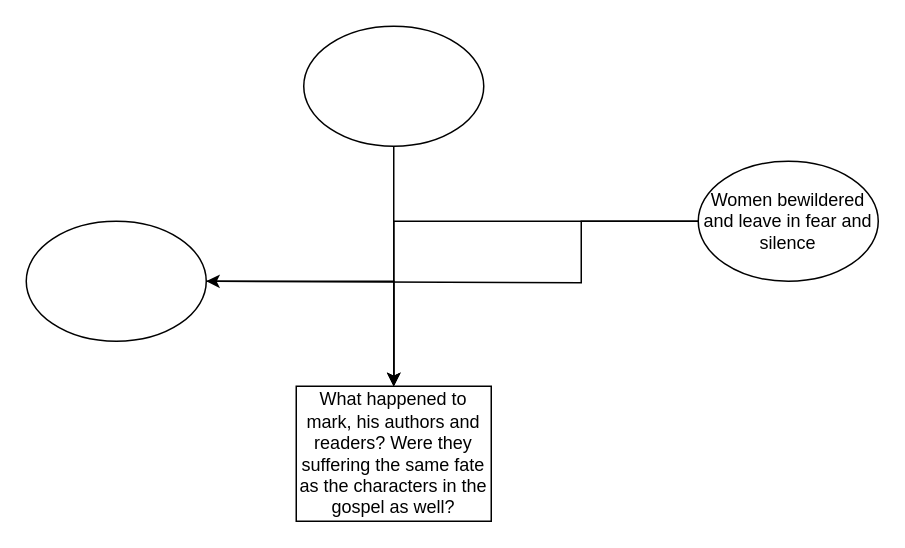
This 905x548 diagram has some shape labels left out. The centre of each missing label's shape, as x and y in pixels:
The gospel is such a speedrun: pixel 393 85
The lost/unusual ending of Mark: pixel 115 280
